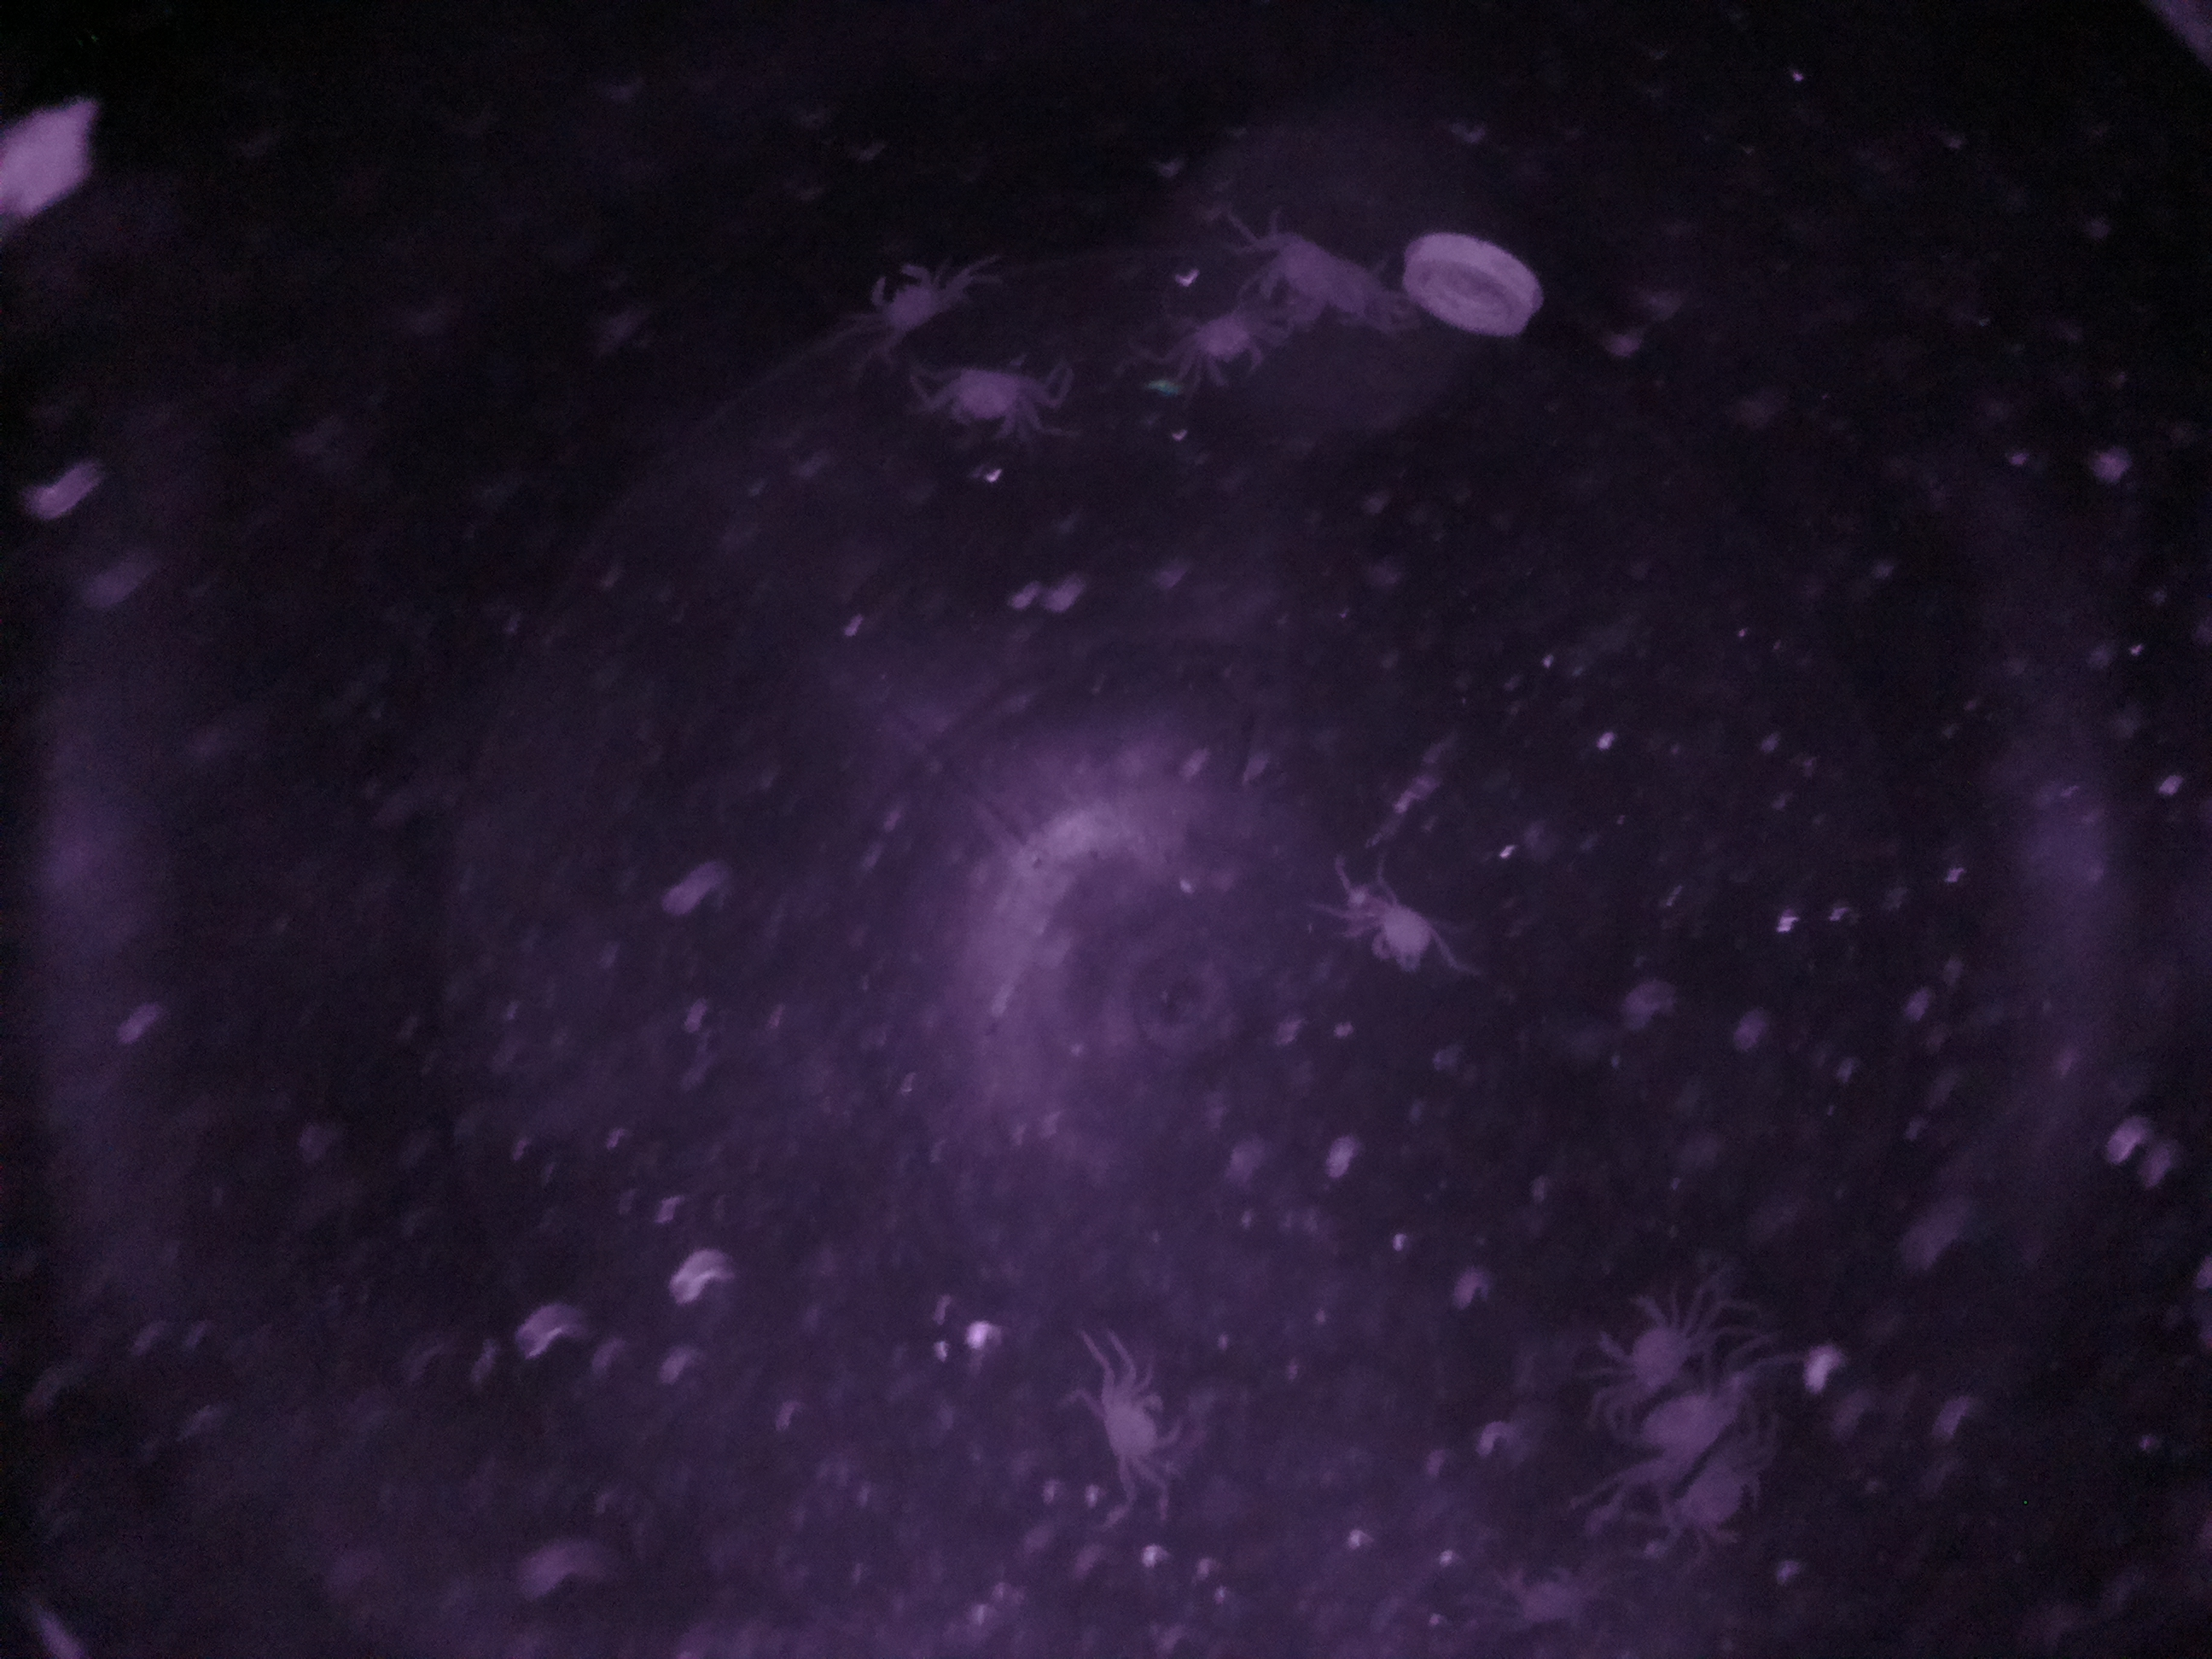Crab: (1580, 1272, 1698, 1403), (934, 345, 1049, 465), (1068, 1368, 1190, 1478), (1348, 871, 1453, 995), (853, 240, 961, 352), (1188, 291, 1278, 413)
